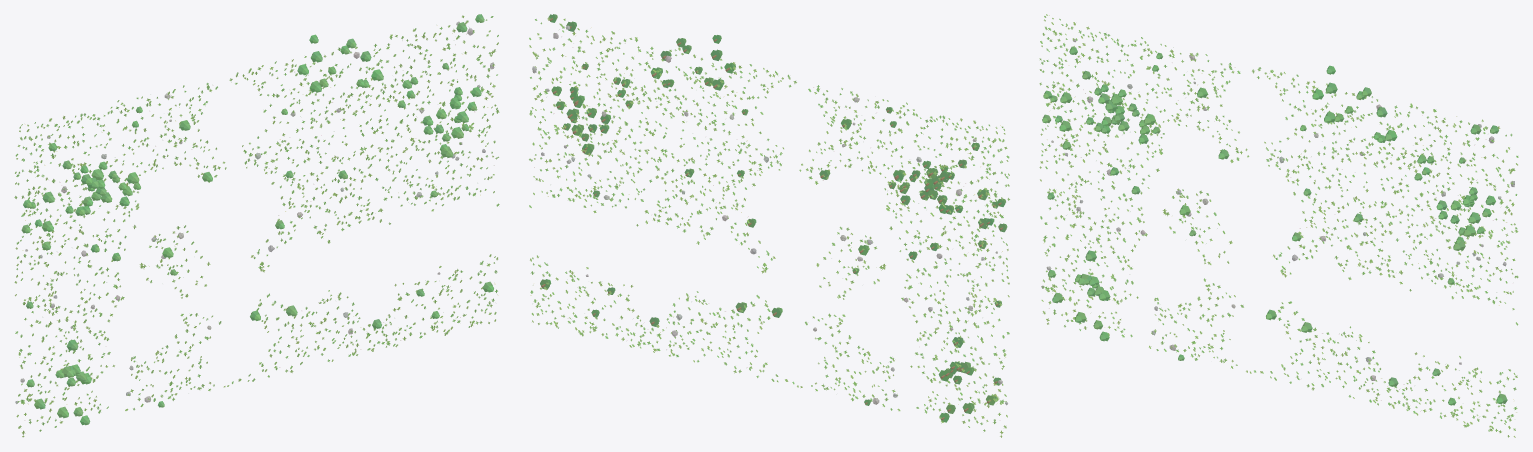
File: vegetation.glb
The picture shows the model from 3 angles, left to right: view 1: azimuth 30°, elevation 25°; view 2: azimuth 150°, elevation 25°; view 3: azimuth 330°, elevation 25°; orthographic projection.
Parts seen in each view (by area): view 1: world; view 2: world; view 3: world.
Part boxes in pixels (x1,y1,x2,y2): world: (14,14,499,437); world: (529,14,1009,437); world: (1039,14,1518,437).
Bounding box in the file's own units: 211 × 139 × 9.21.
